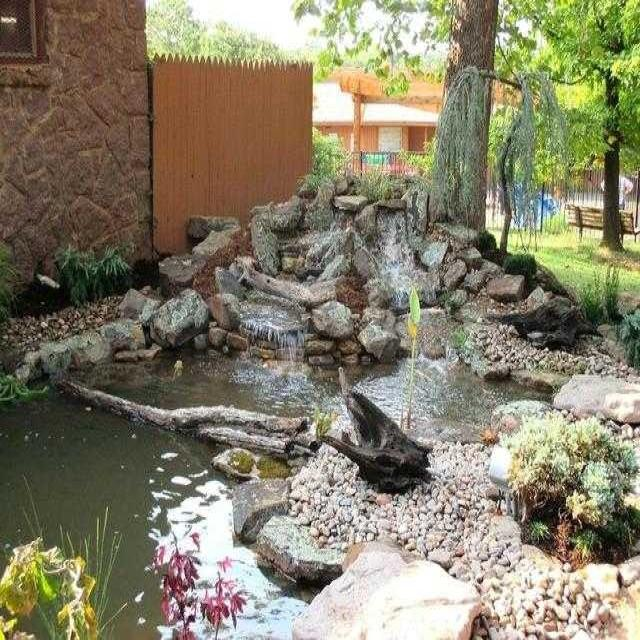Ponds: (1, 246, 580, 640)
